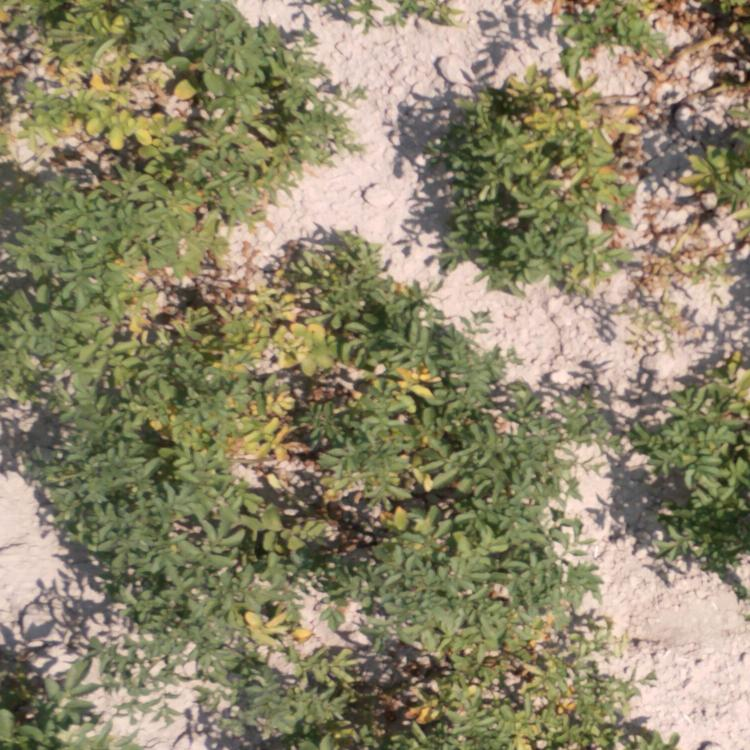healthy: (68, 464, 291, 585), (469, 469, 599, 608), (11, 312, 115, 445), (1, 652, 93, 746), (120, 592, 208, 682), (5, 187, 70, 297)
stressed: (1, 1, 357, 172), (331, 614, 618, 750), (463, 88, 638, 272), (127, 295, 324, 456), (635, 363, 750, 578), (336, 310, 502, 455), (297, 470, 464, 603), (80, 183, 241, 292), (228, 592, 326, 750), (549, 1, 741, 73), (674, 97, 750, 228), (287, 225, 388, 288)
